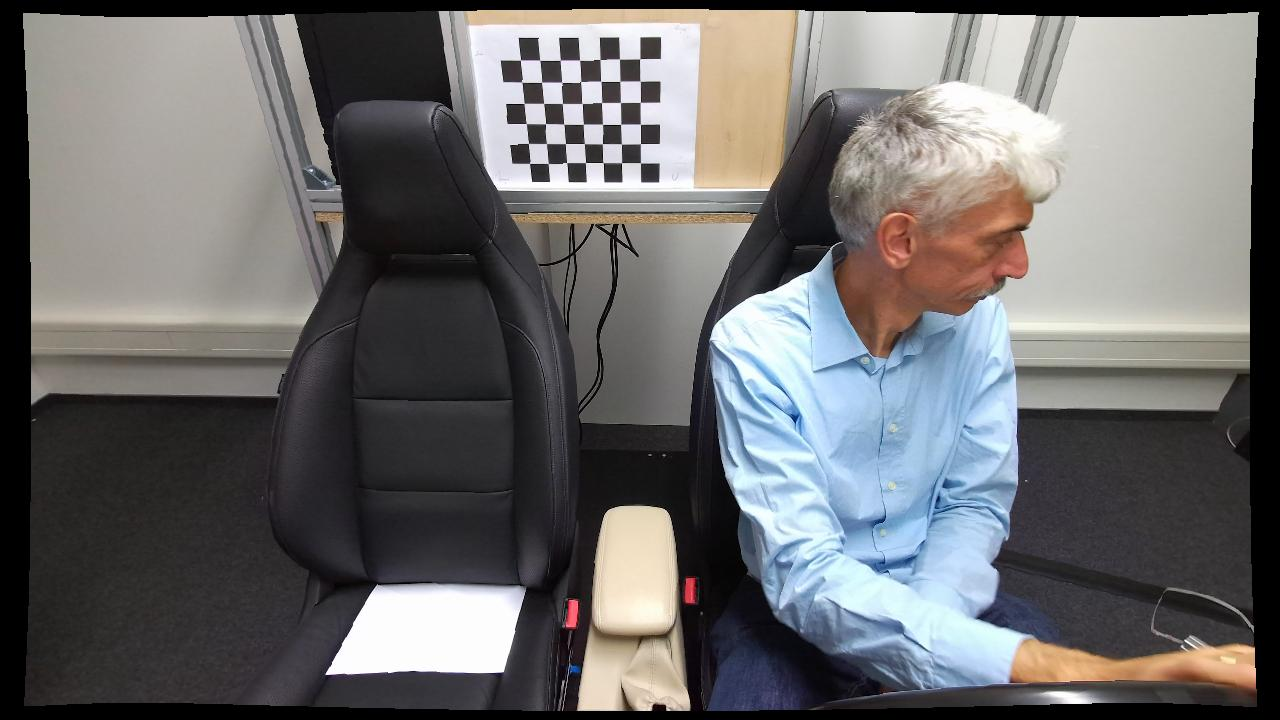Distracted: (703, 76, 1069, 711)
